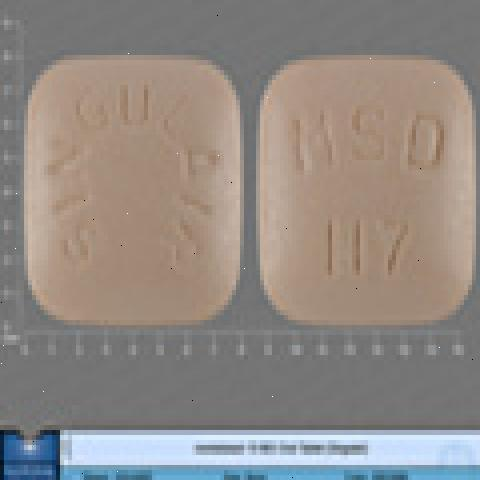Pill: (15, 31, 256, 338), (254, 28, 480, 333)
